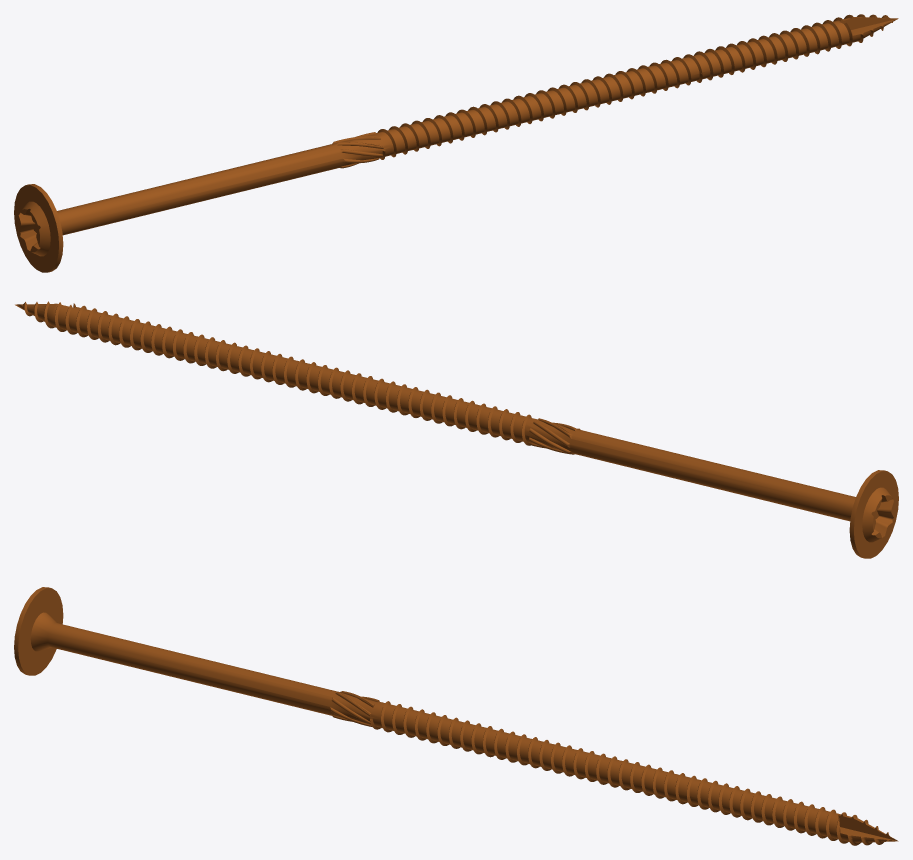
The picture shows the model from 3 angles, top to bottom: view 1: azimuth 30°, elevation 25°; view 2: azimuth 150°, elevation 25°; view 3: azimuth 330°, elevation 25°; orthographic projection.
Parts seen in each view (by area): view 1: Object_2; view 2: Object_2; view 3: Object_2.
Part boxes in pixels (box(x1,y1,x2,y2)): Object_2: box(14, 14, 898, 272); Object_2: box(15, 301, 898, 558); Object_2: box(14, 587, 898, 845).
Bounding box in the file's own units: 200 × 18 × 18.
